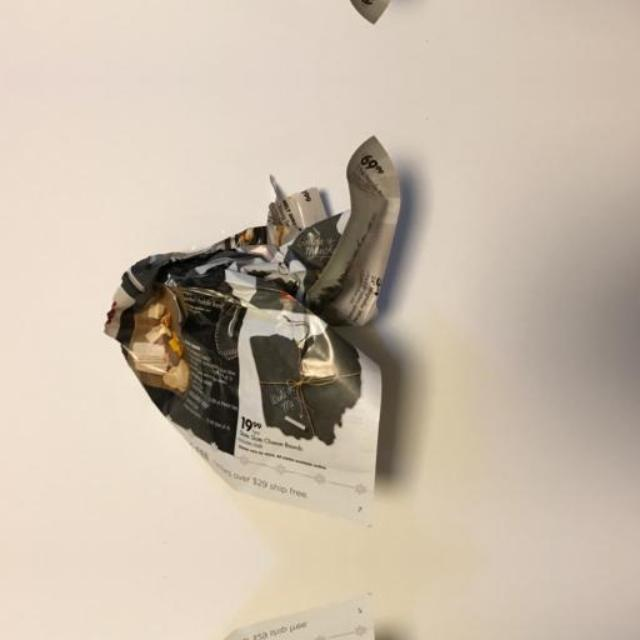paper: (86, 119, 462, 514), (86, 0, 461, 41), (86, 606, 461, 640)
